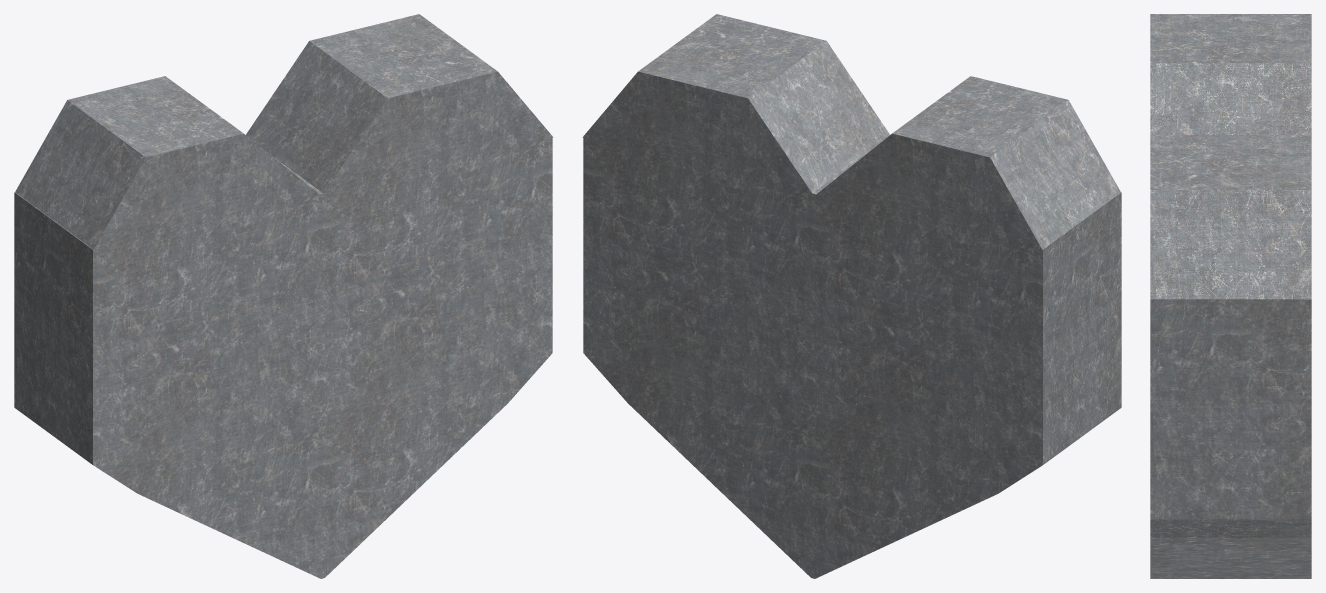
The model's file is BLOCKYGON_HEART.fbx.
The picture shows the model from 3 angles, left to right: view 1: azimuth 30°, elevation 25°; view 2: azimuth 150°, elevation 25°; view 3: azimuth 270°, elevation 25°; orthographic projection. The views are drawn at different scales.
Visible parts, largest first — view 1: BLOCKYGON_HEART; view 2: BLOCKYGON_HEART; view 3: BLOCKYGON_HEART.
Boxes of the visible parts, x1,y1,x2,y2 form: BLOCKYGON_HEART: (14,14,553,578); BLOCKYGON_HEART: (582,14,1121,578); BLOCKYGON_HEART: (1150,14,1311,578).
Bounding box in the file's own units: 204 × 196 × 60.29.
